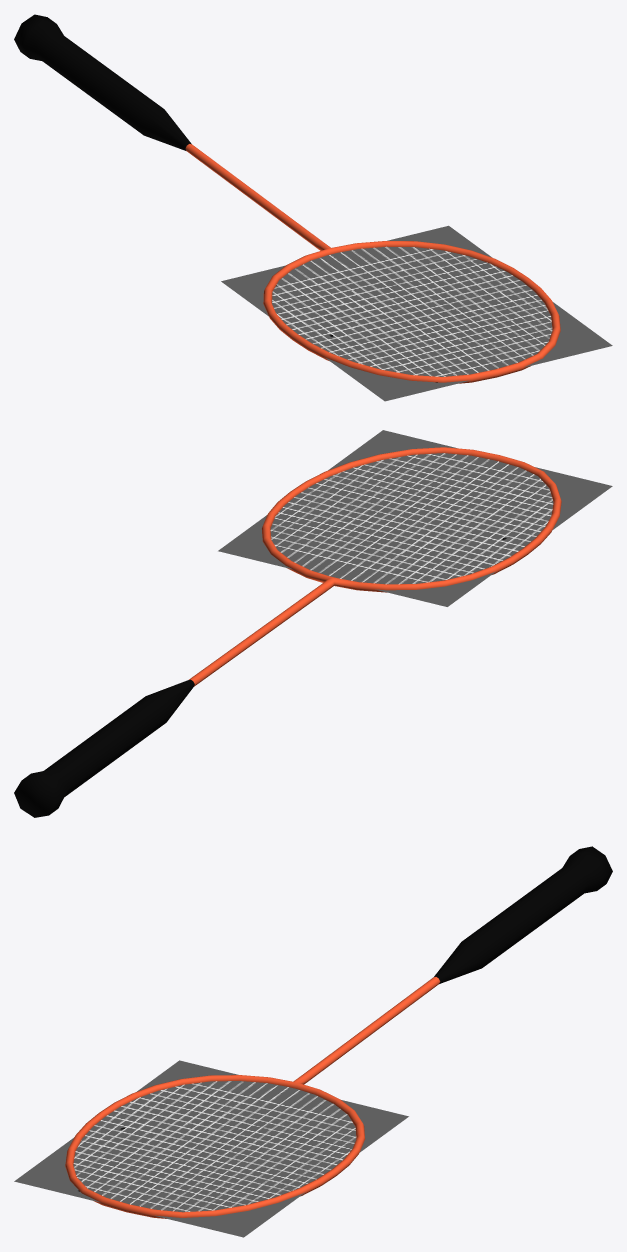
File: racket.fbx
3 views of the same model, one above another, from view 1: azimuth 30°, elevation 25°; view 2: azimuth 150°, elevation 25°; view 3: azimuth 330°, elevation 25° (orthographic).
Visible parts, largest first — view 1: strings, Torus.001; view 2: strings, Torus.001; view 3: strings, Torus.001.
Part boxes in pixels (x1,y1,x2,y2): strings: (221,225,612,401); Torus.001: (14,14,560,383); strings: (218,430,612,606); Torus.001: (14,447,561,817); strings: (14,1060,408,1237); Torus.001: (65,846,612,1218).
Bounding box in the file's own units: 188 × 30.1 × 635.
